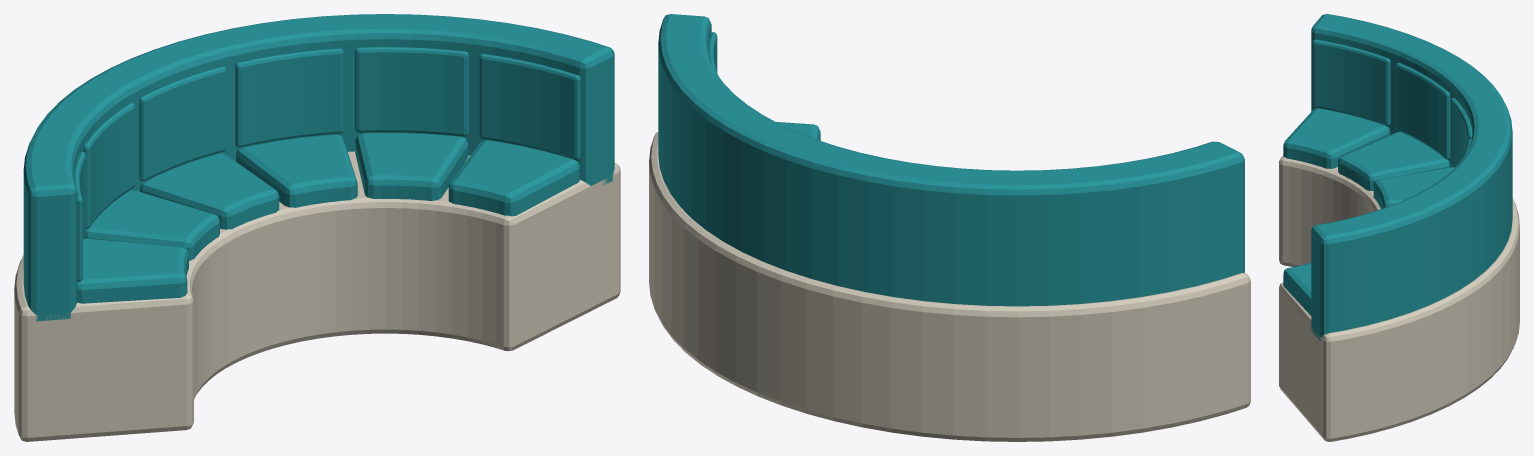
File: 11_advanced_curved_banquette.glb
3 renders of one model, left to right at view 1: azimuth 30°, elevation 25°; view 2: azimuth 150°, elevation 25°; view 3: azimuth 270°, elevation 25°, orthographic. The views are drawn at different scales.
Visible parts, largest first — view 1: 11_advanced_curved_banquette__Static; view 2: 11_advanced_curved_banquette__Static; view 3: 11_advanced_curved_banquette__Static.
Part boxes in pixels (left/top/right/bottom): 11_advanced_curved_banquette__Static: left=14, top=14, right=620, bottom=441; 11_advanced_curved_banquette__Static: left=649, top=14, right=1250, bottom=441; 11_advanced_curved_banquette__Static: left=1279, top=14, right=1519, bottom=441.
Size of the model in its own units: 2.22 by 0.9 by 0.9694.
